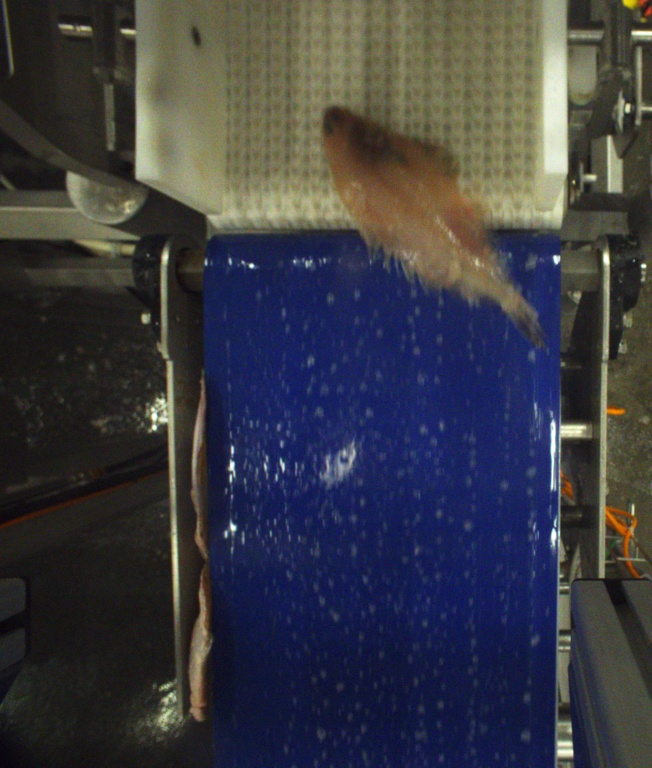WIT: (324, 107, 544, 348)
